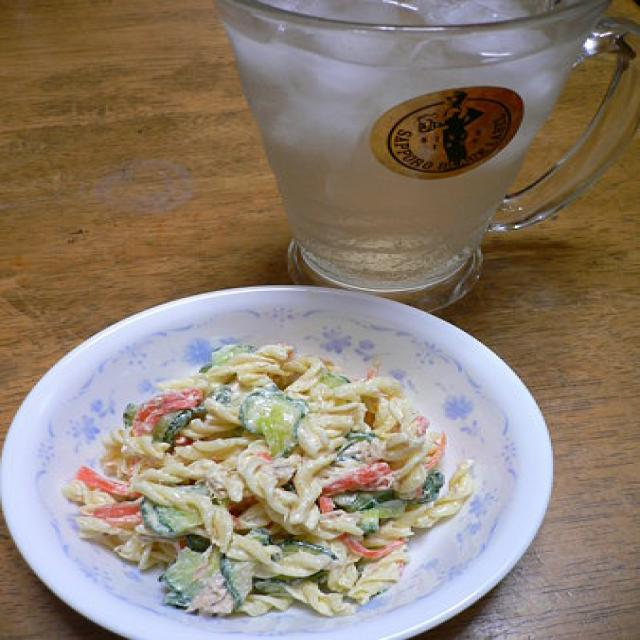蔬菜料理: (0, 272, 560, 639)
